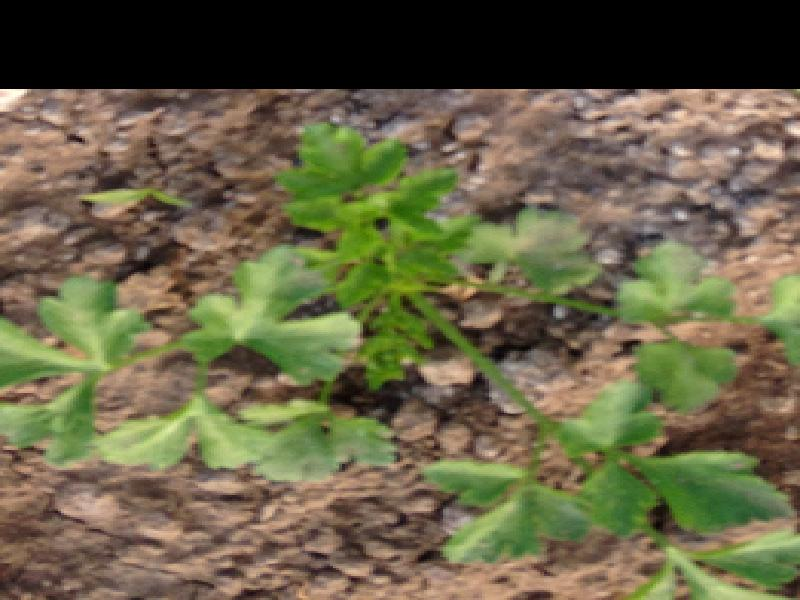radish: (2, 69, 785, 599)
